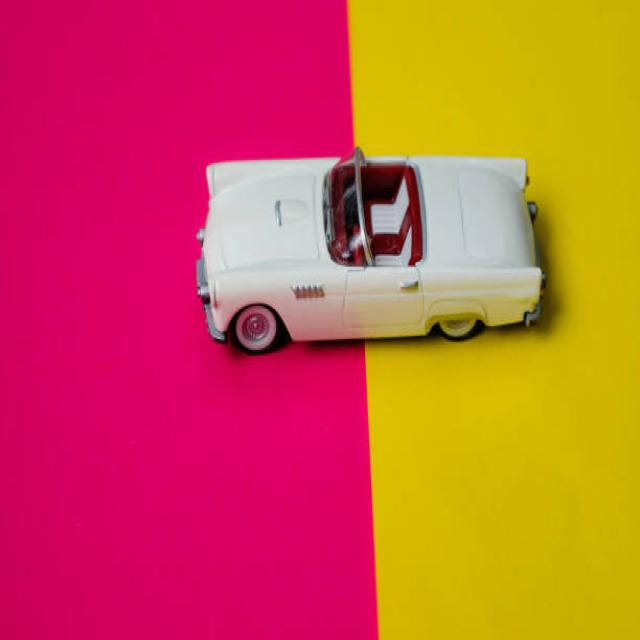Car: (194, 146, 546, 354)
